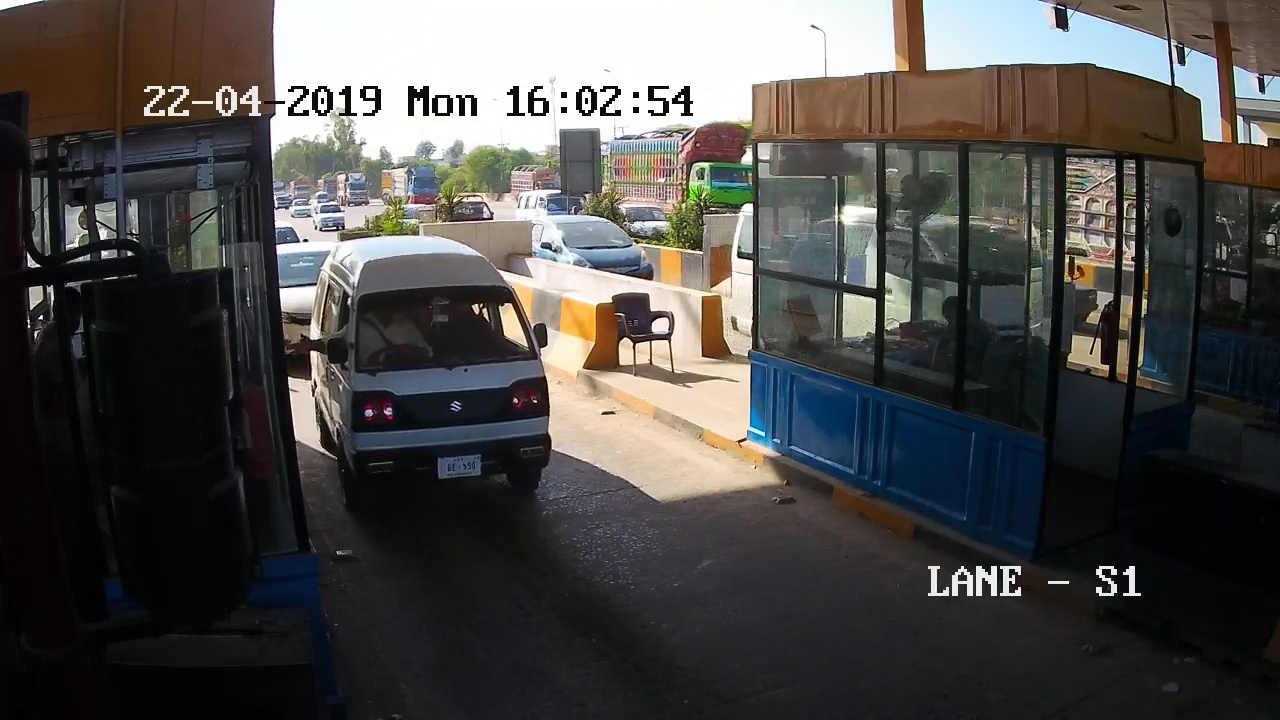Number Plate (Car): (438, 455, 483, 478)
